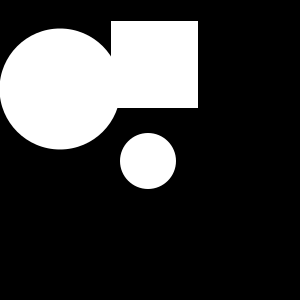circle: (111, 21, 198, 108)
rectangle: (0, 29, 120, 150), (120, 133, 176, 189)
